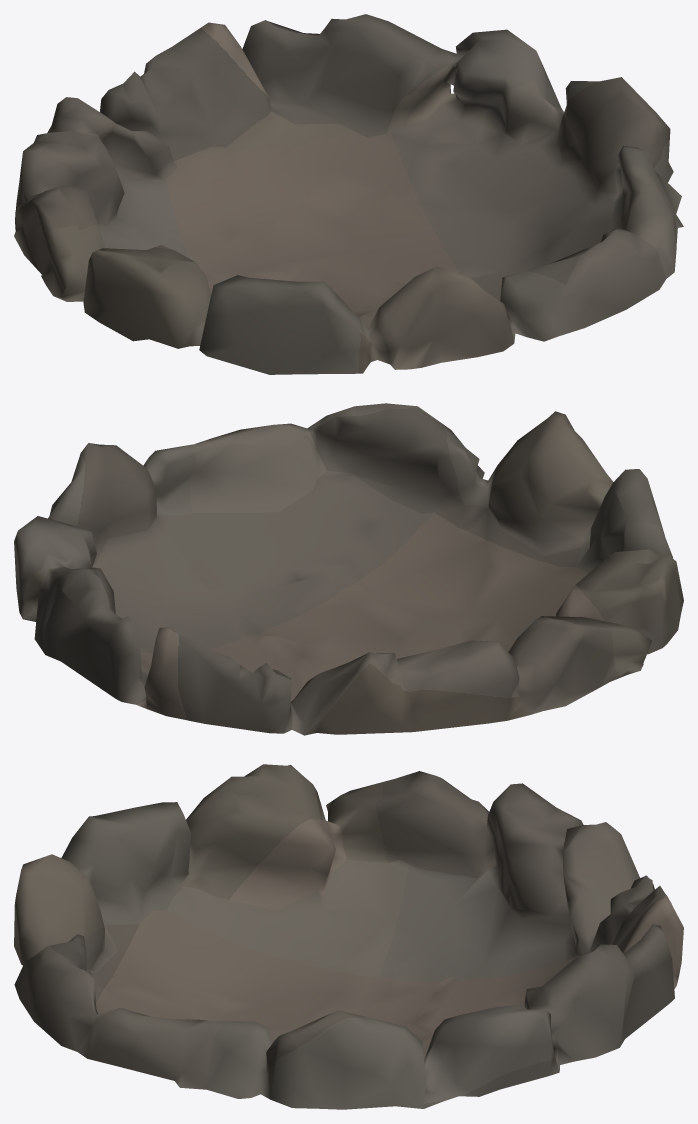
Rendered from ph_firepit.glb.
3 views of the same model, one above another, from view 1: azimuth 30°, elevation 25°; view 2: azimuth 150°, elevation 25°; view 3: azimuth 270°, elevation 25° (orthographic).
Visible parts, largest first — view 1: ph_firepit; view 2: ph_firepit; view 3: ph_firepit.
Part boxes in pixels (box(x1,y1,x2,y2)): ph_firepit: box(14, 14, 683, 374); ph_firepit: box(14, 403, 683, 735); ph_firepit: box(14, 764, 683, 1109).
Bounding box in the file's own units: 1.45 × 0.3883 × 1.43.
Materials: 1 (1 with a texture image).
